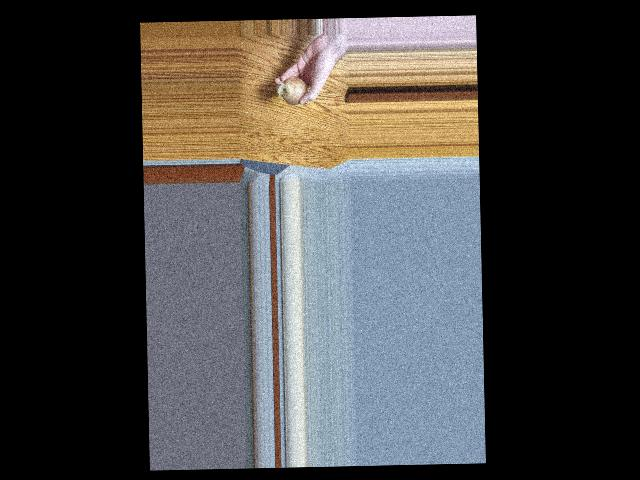onion: (282, 74, 307, 105)
